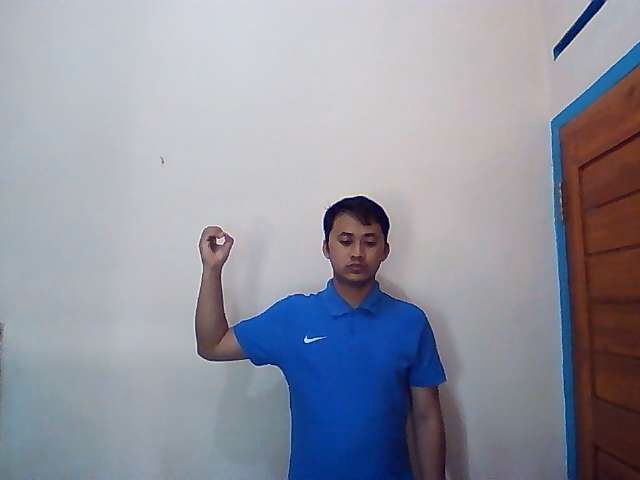O: (196, 224, 234, 271)
